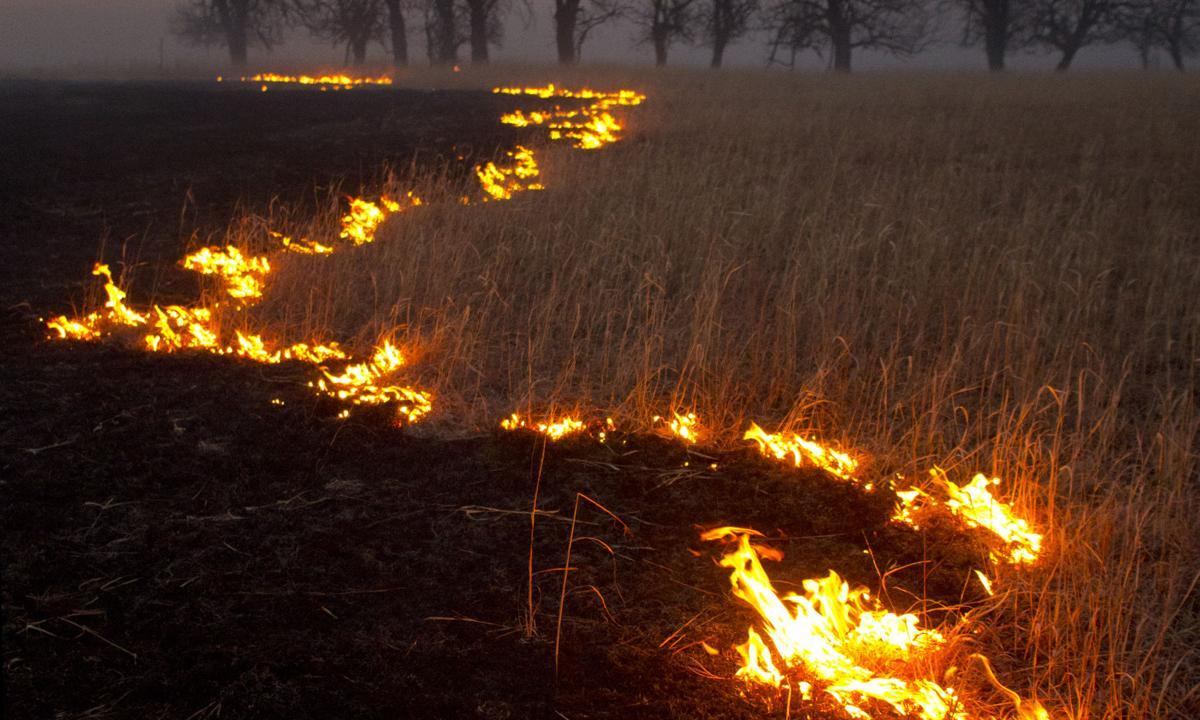fire: (326, 380, 1086, 720), (30, 55, 642, 376)
